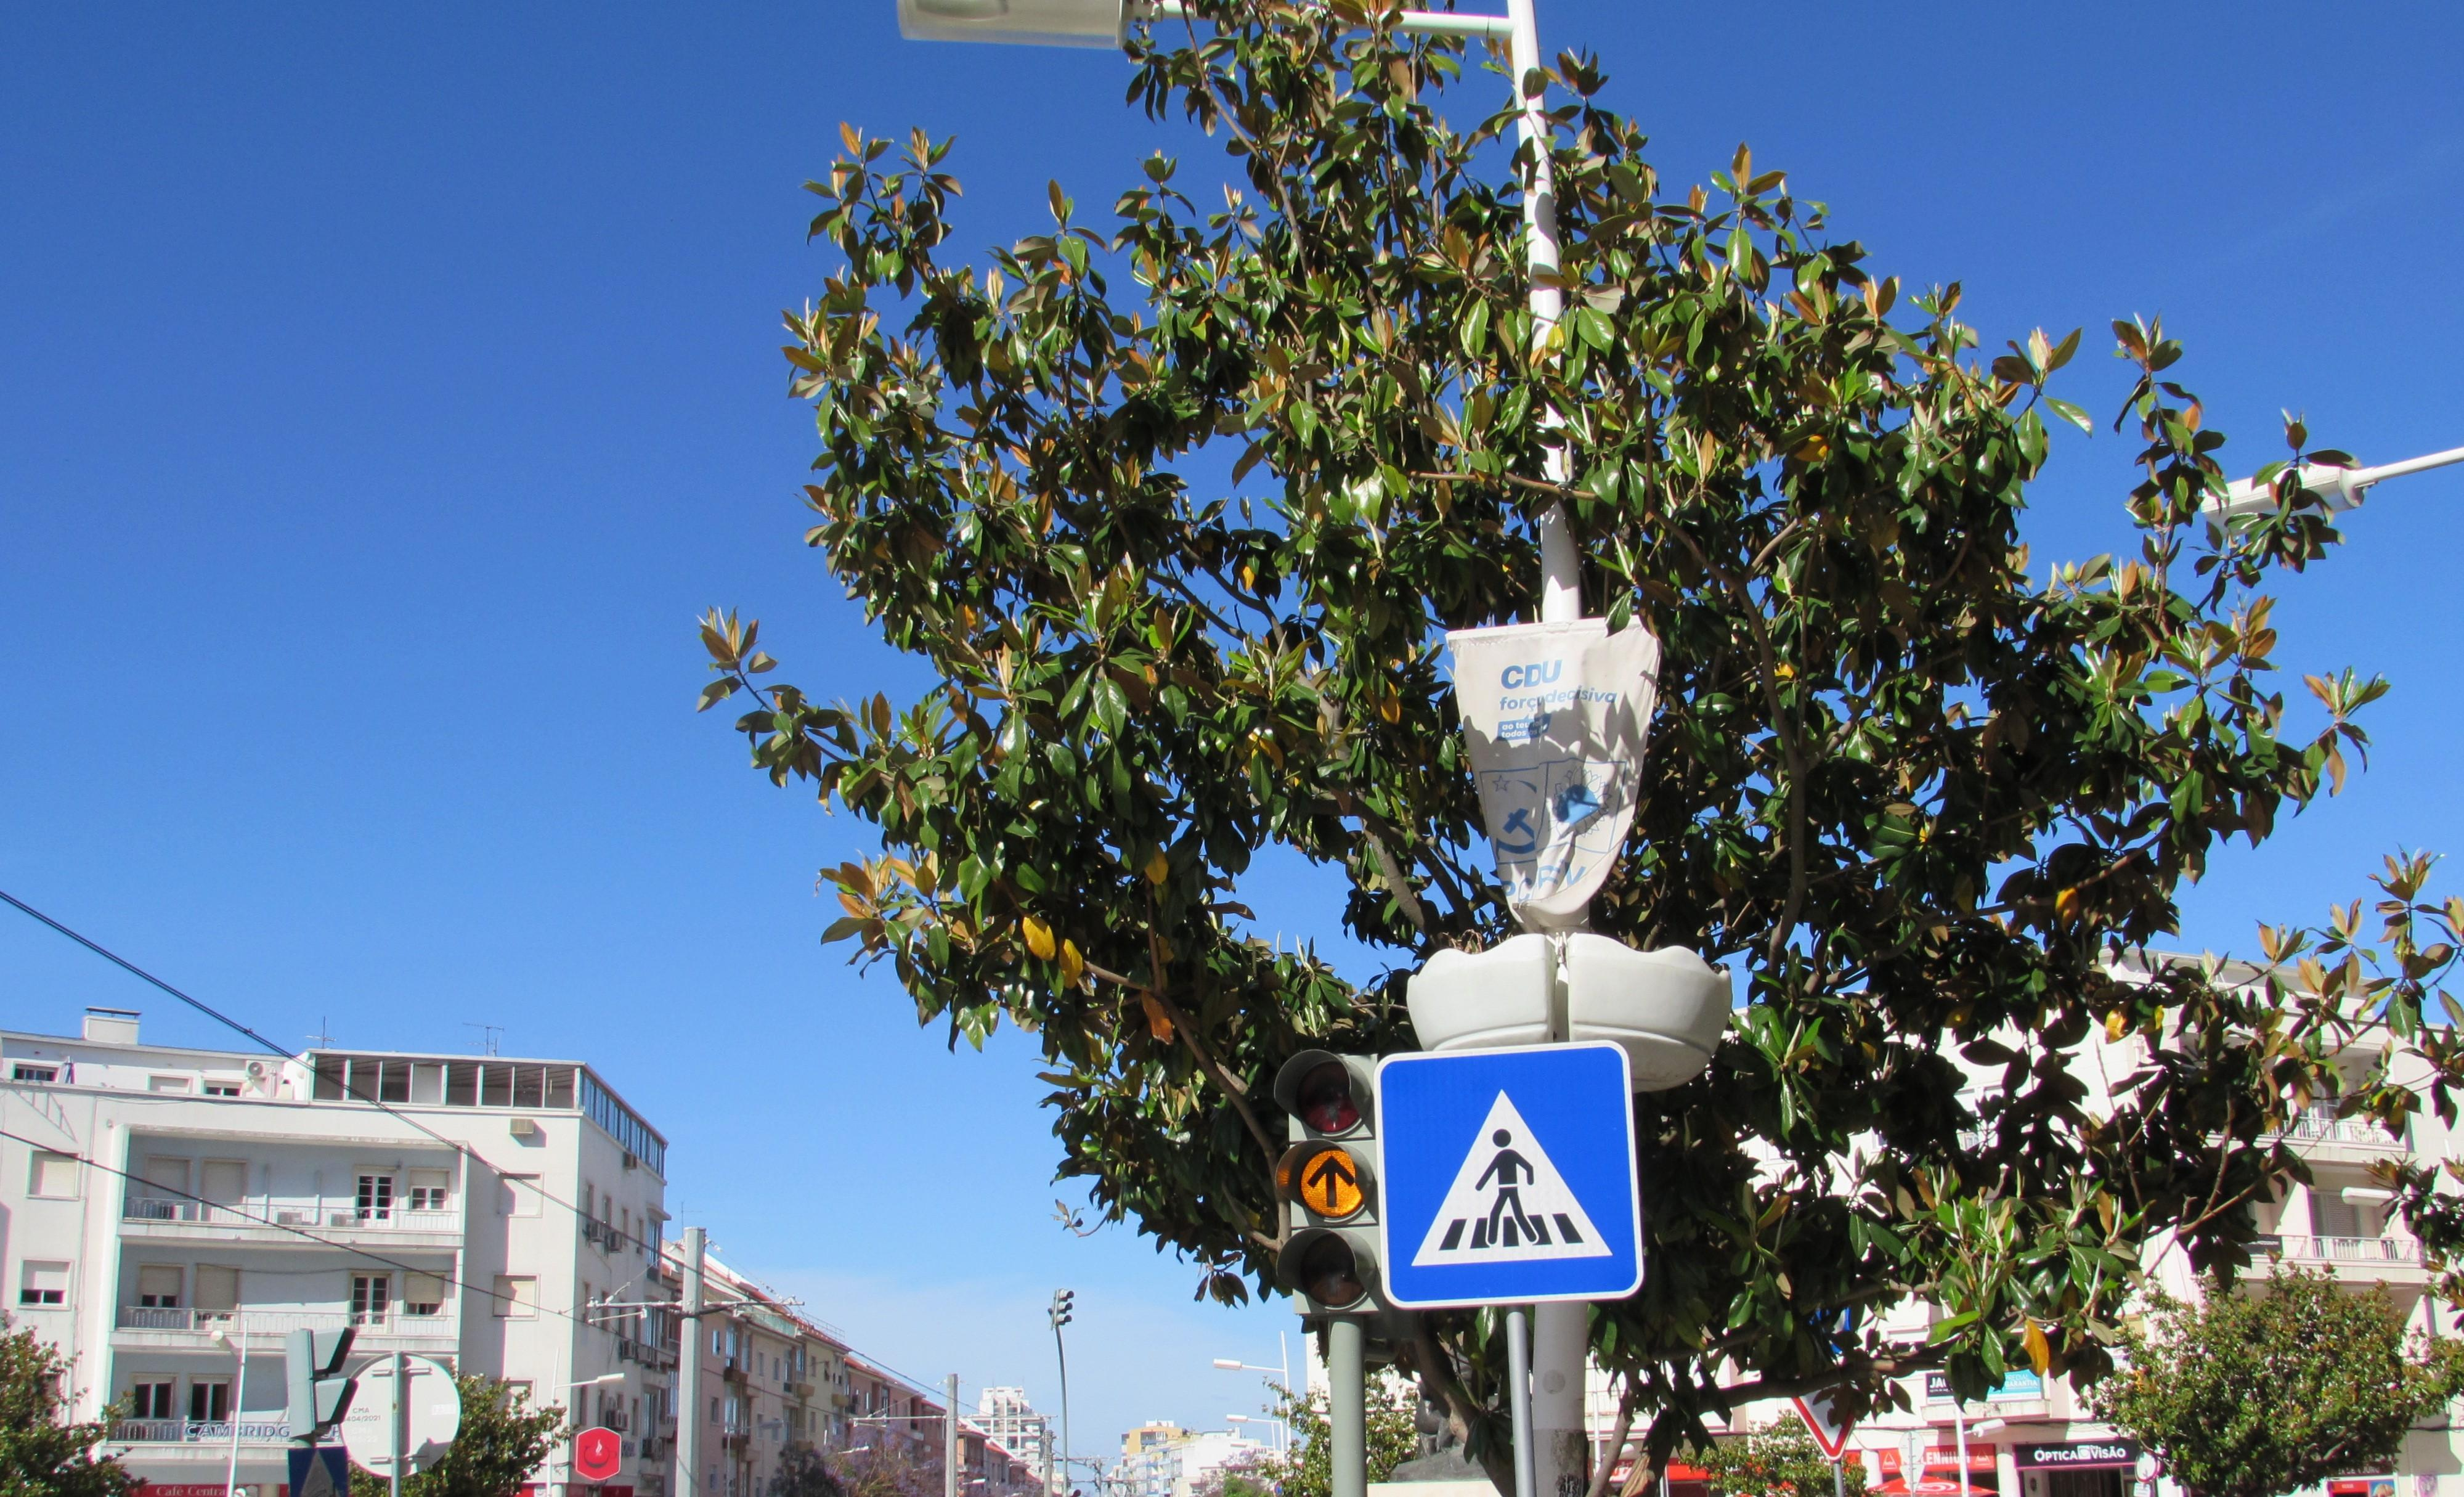yellow_light: (1274, 1050, 1385, 1314)
